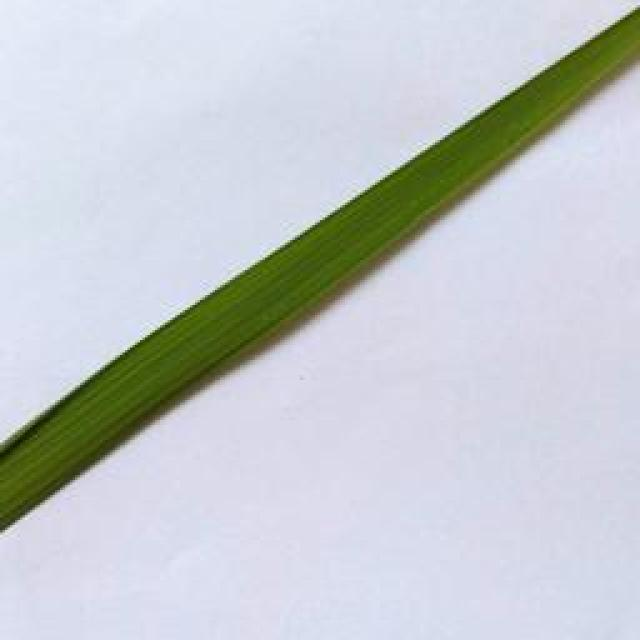Healthy-Plant: (0, 11, 640, 532)
